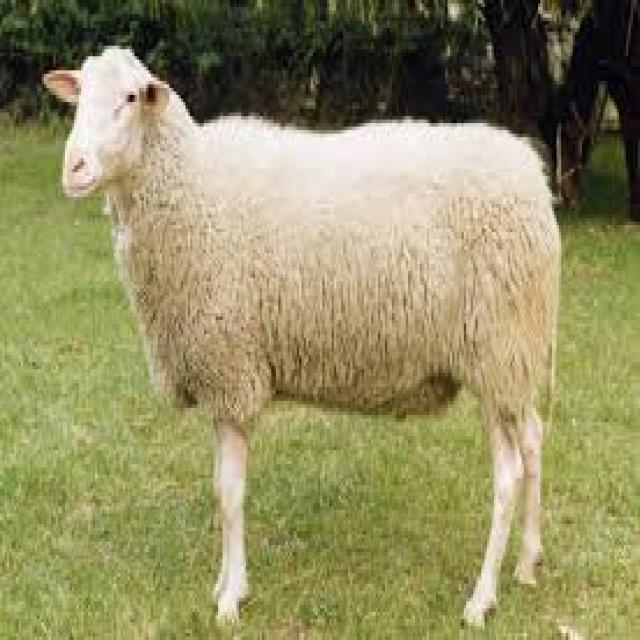sheep: (42, 46, 559, 622)
